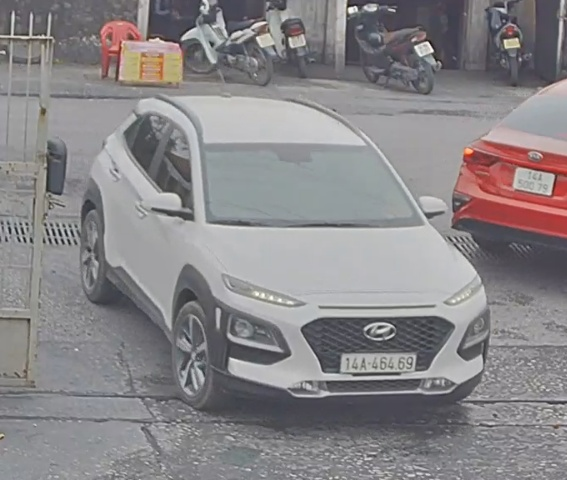vehicle plate: (335, 349, 421, 373)
